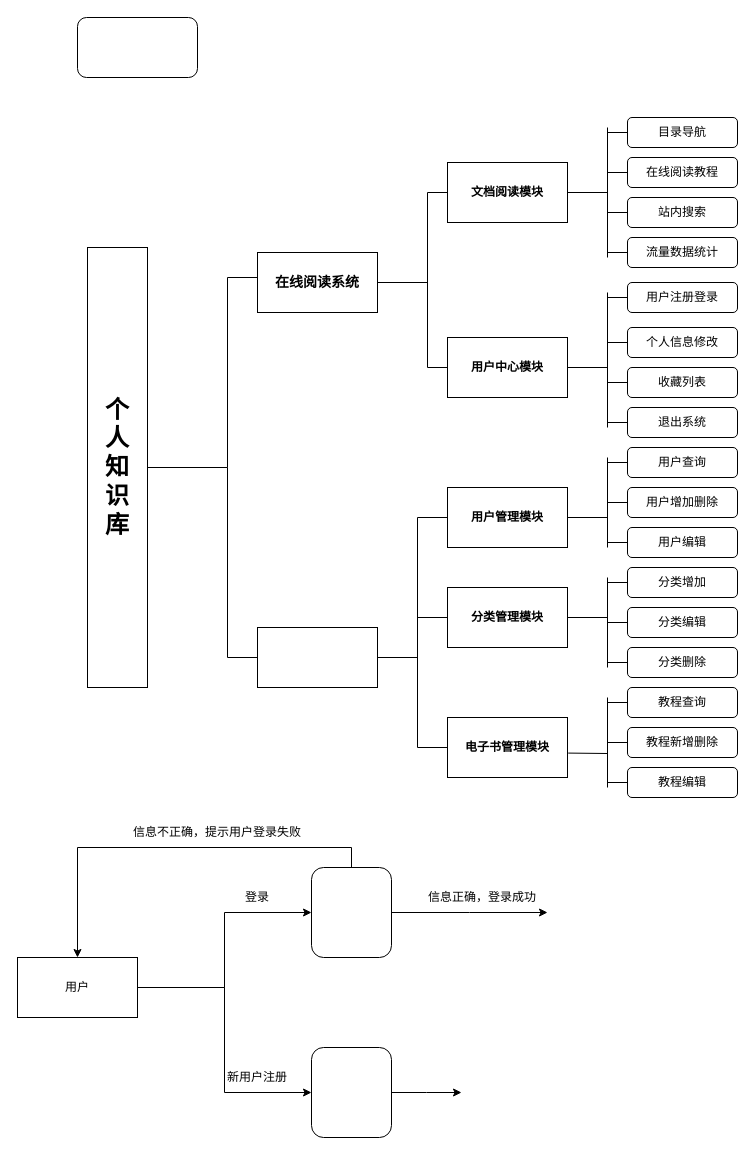
The diagram is 755 pixels wide and 1155 high, and some of its shapes have lost their labels. Each missing label, with the box of its shape:
1.1 身份校验: (310, 866, 392, 958)
1.2 注册: (310, 1046, 392, 1138)
后台管理系统: (256, 626, 378, 688)
